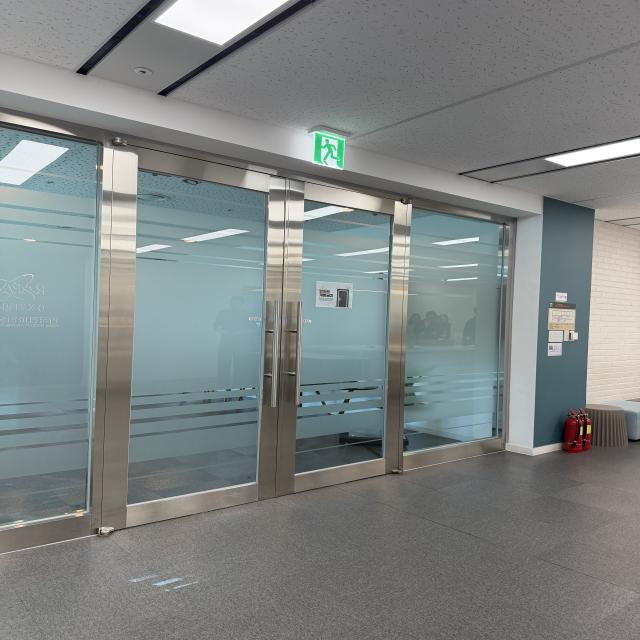front_door: (0, 113, 515, 553)
